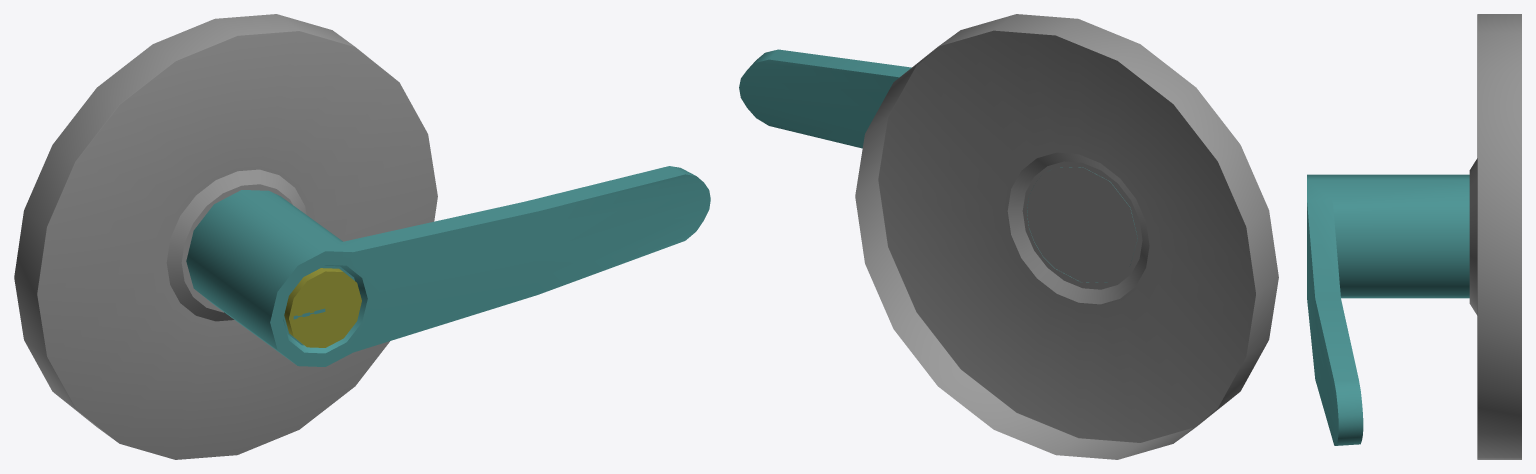
Rendered from door handle2_2.fbx.
The picture shows the model from 3 angles, left to right: view 1: azimuth 30°, elevation 25°; view 2: azimuth 150°, elevation 25°; view 3: azimuth 270°, elevation 25°; orthographic projection. The views are drawn at different scales.
Visible parts, largest first — view 1: handle2_2 (×2); view 2: handle2_2 (×2); view 3: handle2_2 (×2).
Boxes of the visible parts, x1,y1,x2,y2 form: handle2_2 (×2): (14, 14, 710, 459); handle2_2 (×2): (739, 14, 1278, 459); handle2_2 (×2): (1307, 14, 1521, 459).
Bounding box in the file's own units: 15.11 × 10.06 × 4.81.
